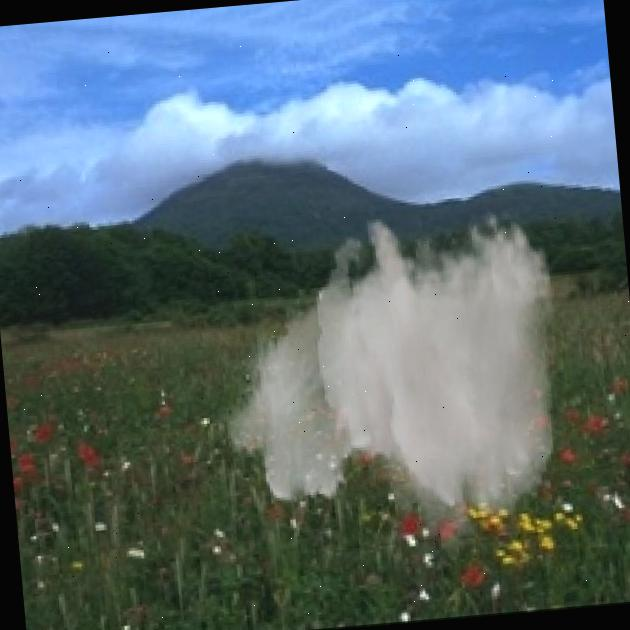smoke: (199, 201, 577, 585)
